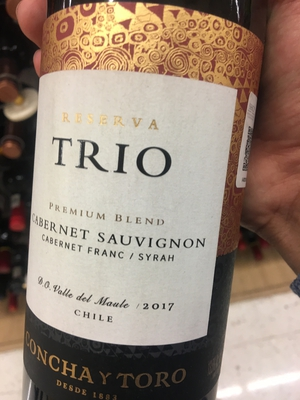trio cabernet sauvignon: (25, 1, 263, 400)
